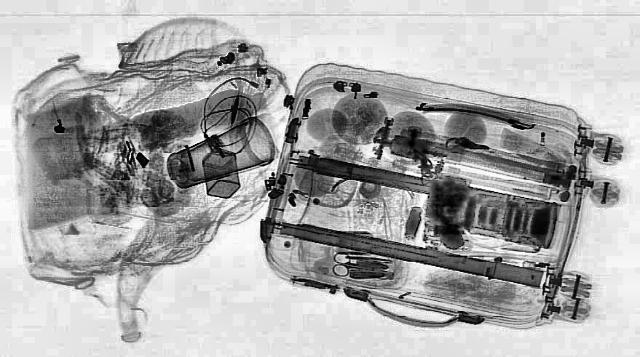Scissors: (324, 252, 396, 280)
